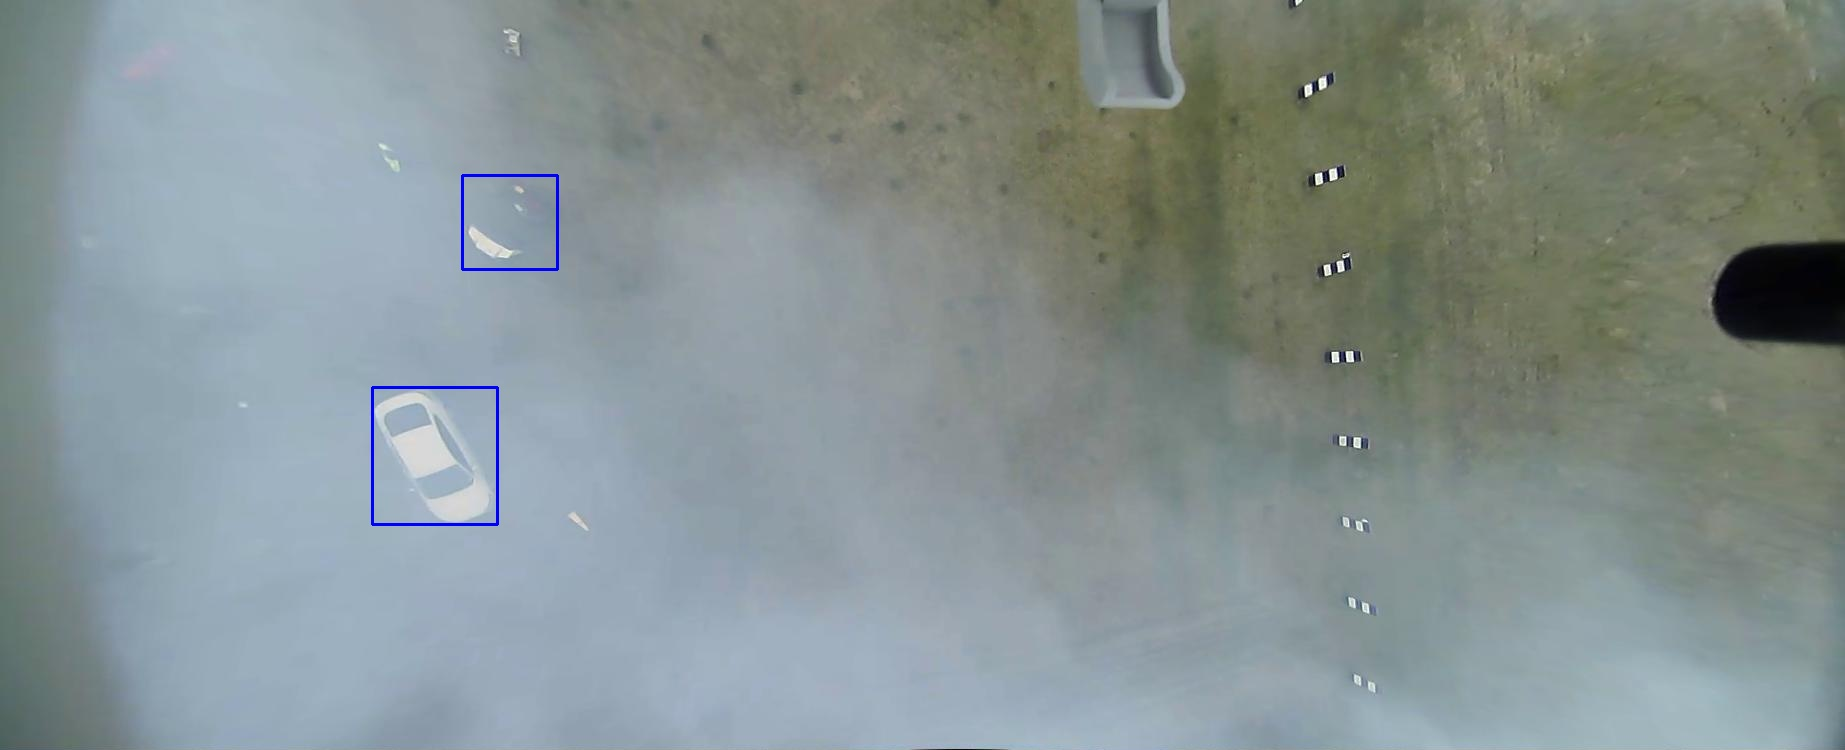vehicle: (387, 372, 524, 497), (175, 462, 269, 557)
